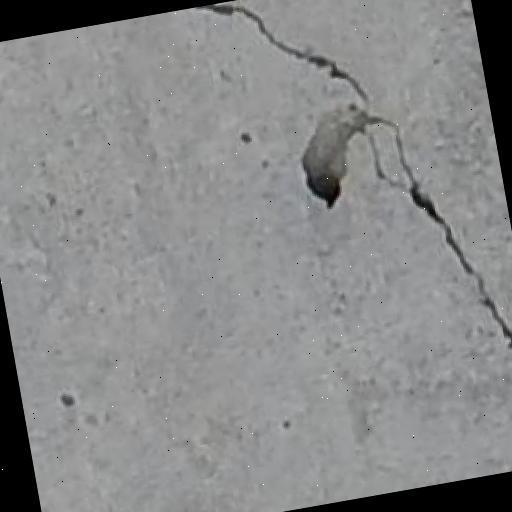spalling: (206, 2, 512, 368)
